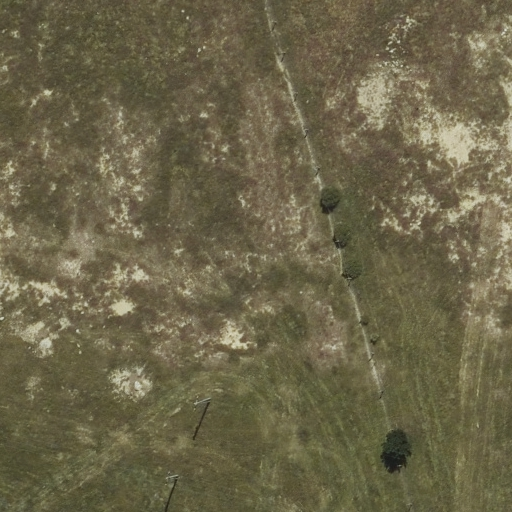DT: (186, 391, 215, 415), (161, 467, 183, 488)
